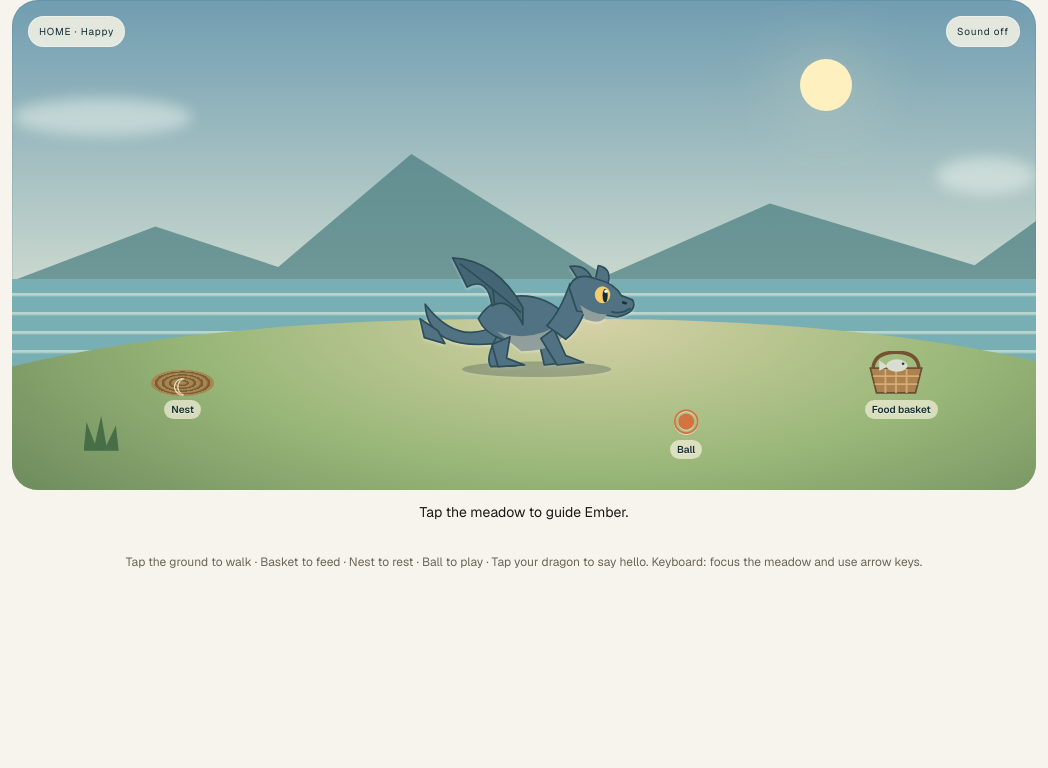
Test: playable habitat › shows a refusal without pretending the dragon went to sleep
Click the button with aria-label "Let Ember rest in the nest": (183, 395) [145,364,220,426]
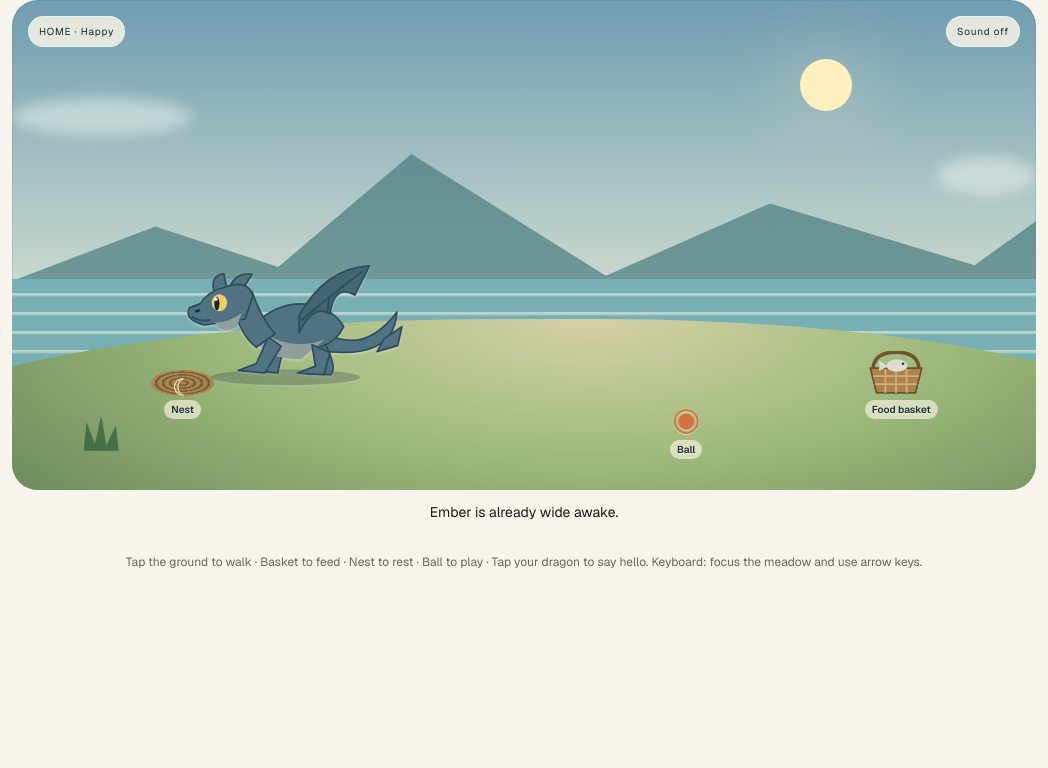
Check: the text "Ember is already wide awake." is shown, box [430,503,618,521]
